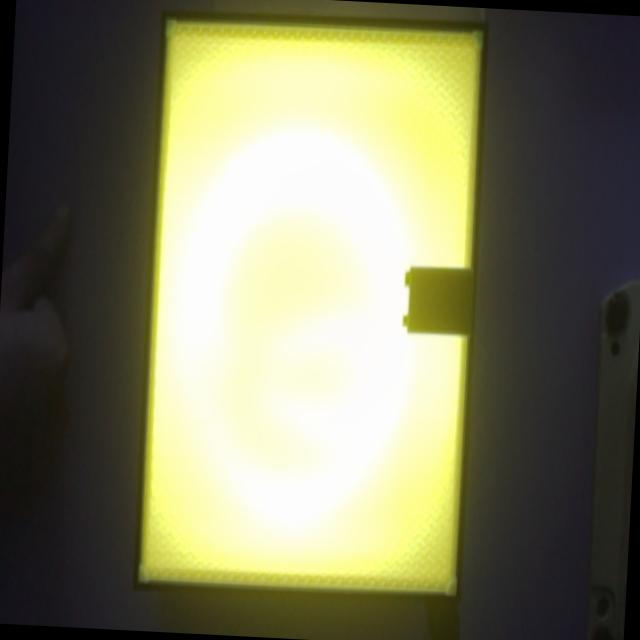bateria: (403, 264, 473, 336)
mesa: (133, 9, 490, 607)
